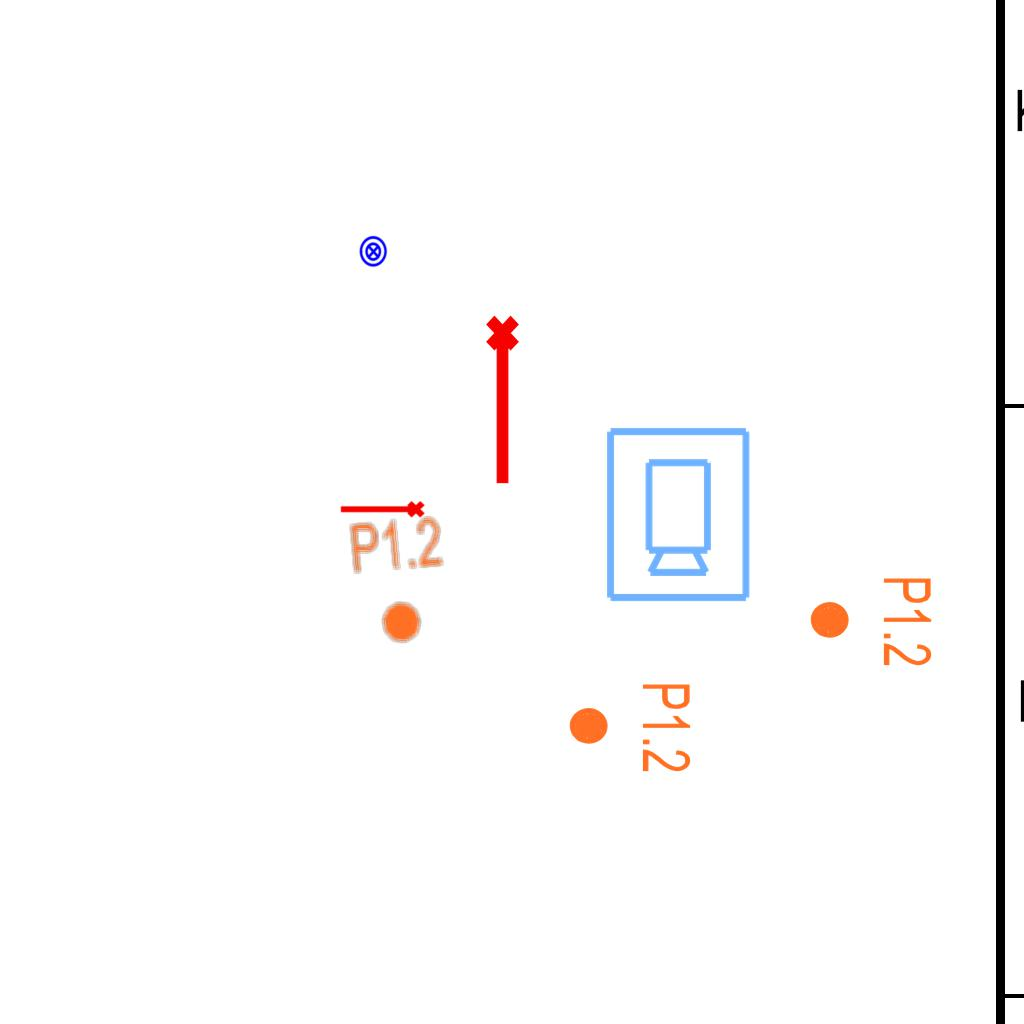ASR_Ansaugoeffnung: (482, 313, 528, 489), (338, 499, 426, 522)
Downlight_LED_Einbauleuchten_Flur: (347, 513, 452, 649), (807, 575, 935, 668), (566, 681, 694, 774)
KFO_Kamera_mit_Festobjektiv: (600, 423, 754, 605)
Taster_beleuchtet: (357, 235, 390, 268)
